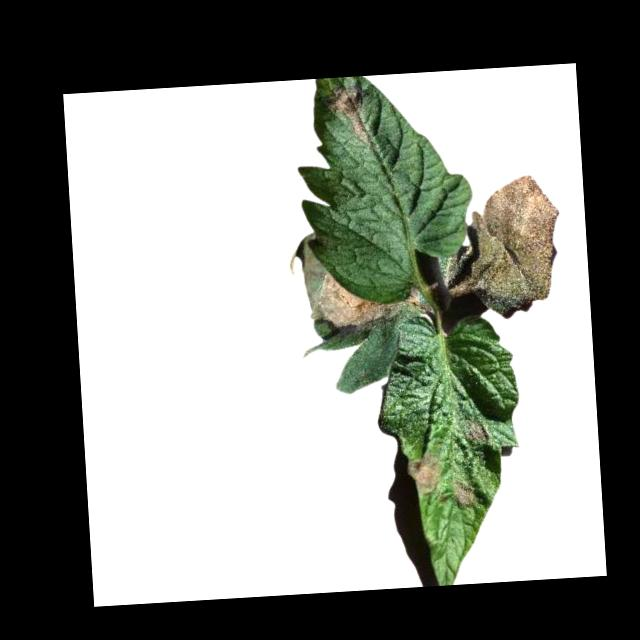Late_blight: (463, 173, 563, 318), (304, 268, 430, 333), (323, 85, 373, 147), (408, 454, 442, 496), (453, 482, 477, 508), (465, 423, 490, 447)
